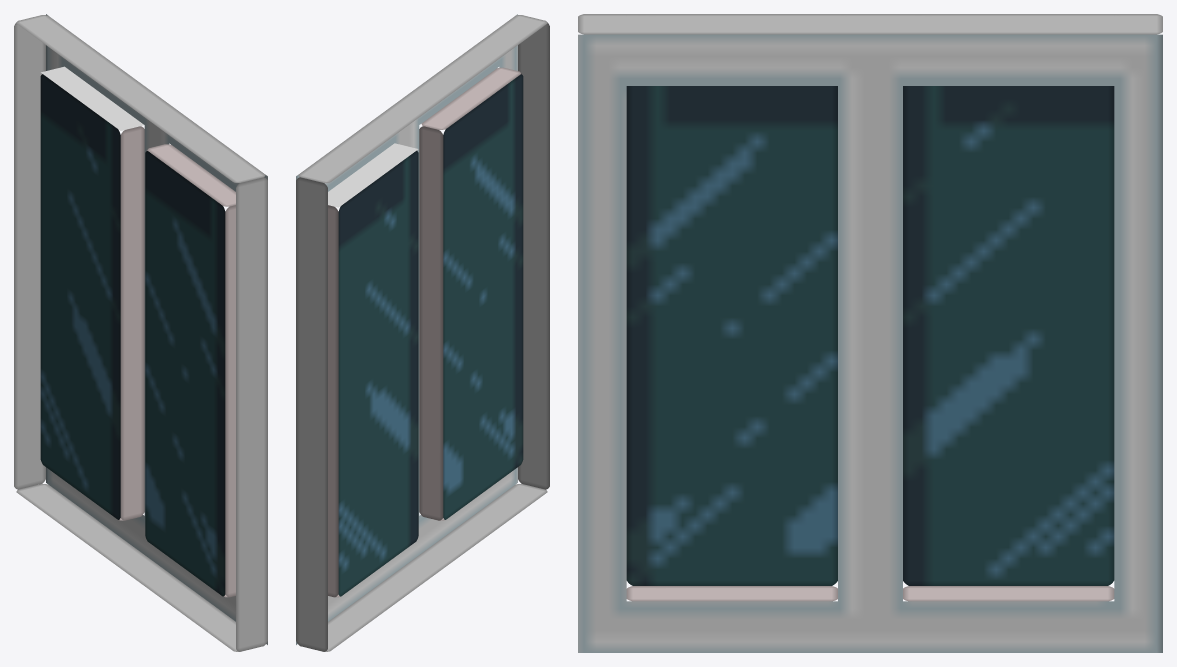
The model's file is WindowWhite2micro.fbx.
The picture shows the model from 3 angles, left to right: view 1: azimuth 30°, elevation 25°; view 2: azimuth 150°, elevation 25°; view 3: azimuth 270°, elevation 25°; orthographic projection. The views are drawn at different scales.
Visible parts, largest first — view 1: plane; view 2: plane; view 3: plane.
Part boxes in pixels (<box>): plane: <box>14,14,267,651</box>; plane: <box>296,14,549,651</box>; plane: <box>578,14,1162,652</box>.
Bounding box in the file's own units: 6.25 × 87.5 × 75.
1 material, 1 textured.
